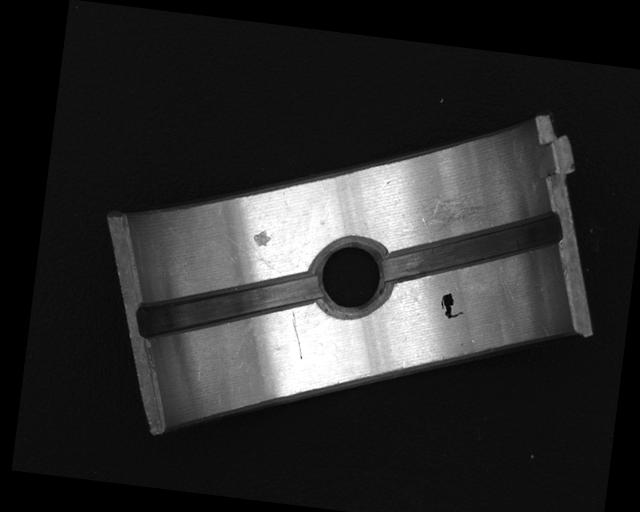blot: (438, 290, 467, 321)
bruise: (252, 227, 273, 249)
gap: (380, 192, 564, 300)
hole: (136, 251, 324, 358), (310, 238, 395, 322)
nick: (285, 308, 309, 360)
scratch: (399, 190, 502, 252)
